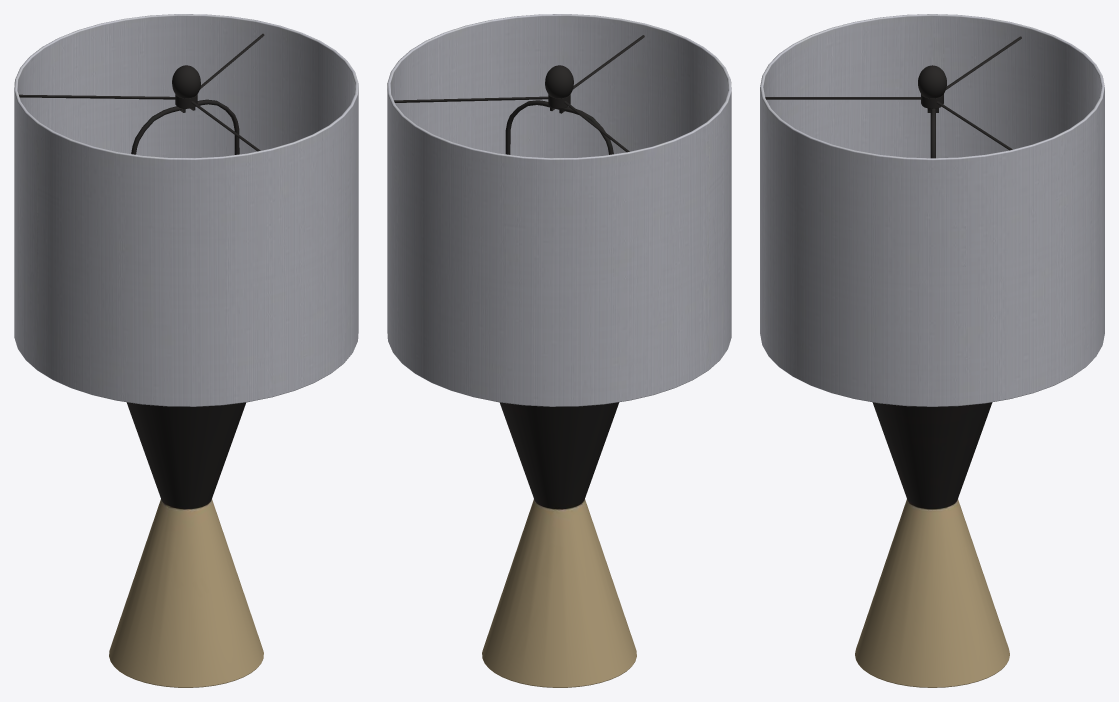
Rendered from table_lamp_abo_B07HKGHSR7.glb.
3 renders of one model, left to right at view 1: azimuth 30°, elevation 25°; view 2: azimuth 150°, elevation 25°; view 3: azimuth 270°, elevation 25°, orthographic.
Visible parts, largest first — view 1: RootNode; view 2: RootNode; view 3: RootNode.
Boxes of the visible parts, x1,y1,x2,y2 form: RootNode: (14, 14, 358, 687); RootNode: (387, 14, 731, 687); RootNode: (760, 14, 1104, 687).
Size of the model in its own units: 0.3042 by 0.5733 by 0.3042.
Materials: 1 (1 with a texture image).
